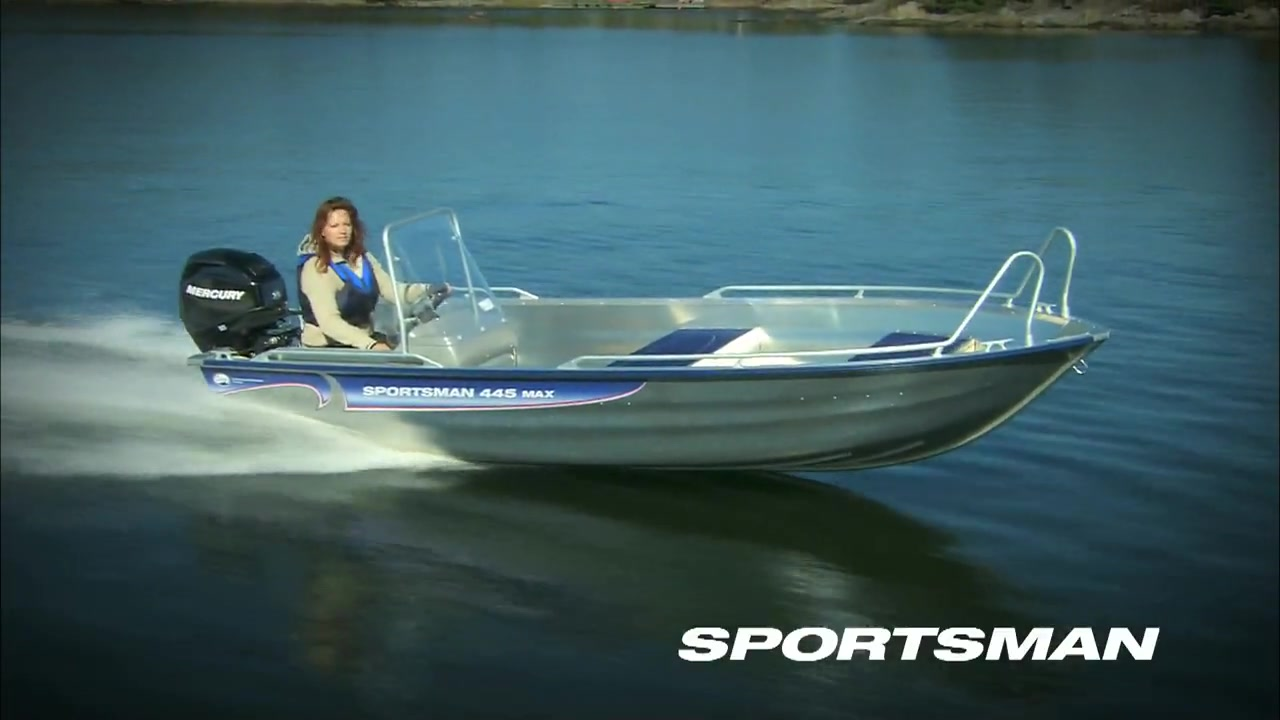boat: (170, 201, 1125, 482)
